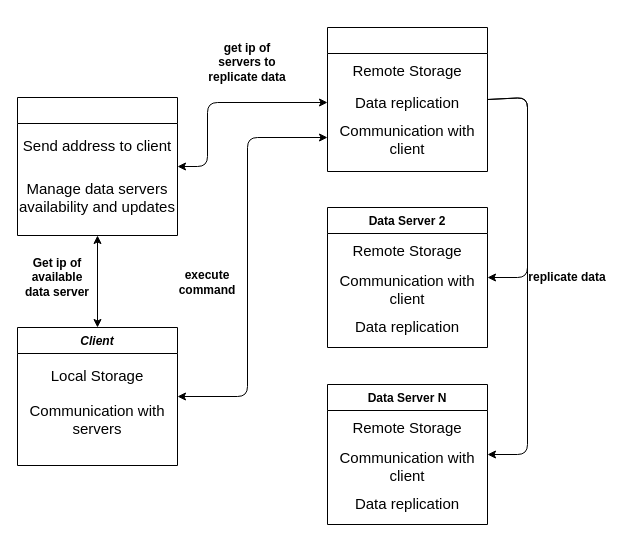
Image size: 625x542. Some labels were removed from this diagram. Here are the shapes that lost their labels. From the top down, the box of each, then its label:
(326, 26, 488, 172): Data Server 1
(16, 96, 178, 236): Name Server
